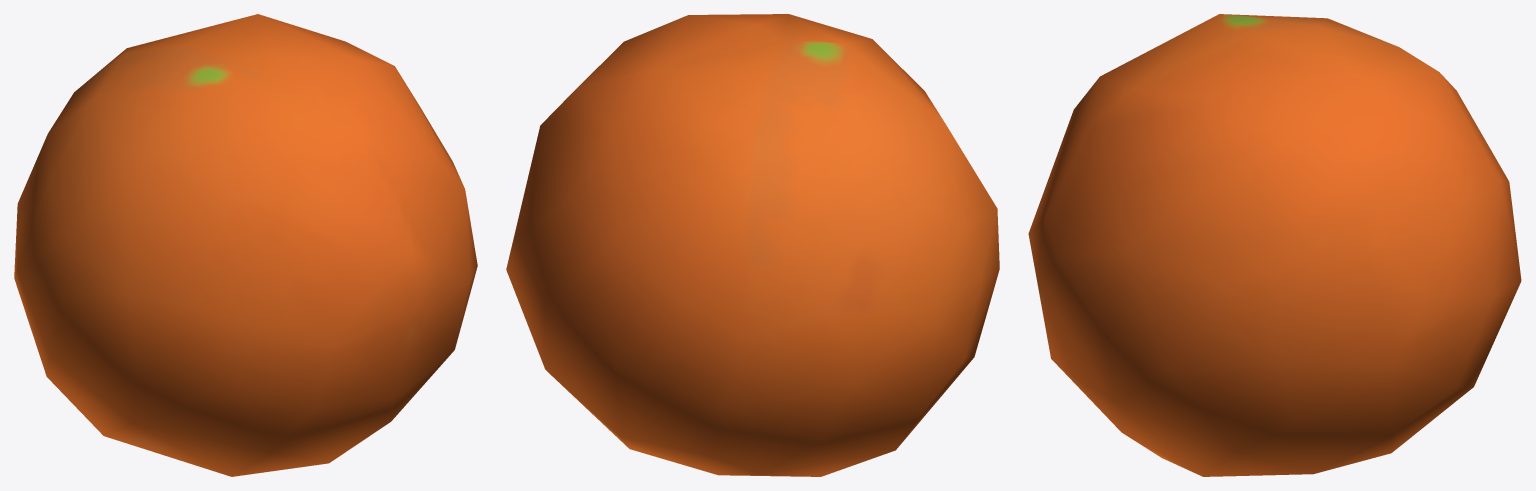
The model's file is SM_Food_SM_Clementine.fbx.
The picture shows the model from 3 angles, left to right: view 1: azimuth 30°, elevation 25°; view 2: azimuth 150°, elevation 25°; view 3: azimuth 270°, elevation 25°; orthographic projection. The views are drawn at different scales.
Parts seen in each view (by area): view 1: SM_Food_SM_Clementine_LOD0; view 2: SM_Food_SM_Clementine_LOD0; view 3: SM_Food_SM_Clementine_LOD0.
Boxes of the visible parts, <box> form: SM_Food_SM_Clementine_LOD0: <box>14,14,477,476</box>; SM_Food_SM_Clementine_LOD0: <box>506,14,999,476</box>; SM_Food_SM_Clementine_LOD0: <box>1028,14,1521,476</box>.
Bounding box in the file's own units: 6.82 × 6.92 × 6.22.
Materials: 1 (1 with a texture image).
